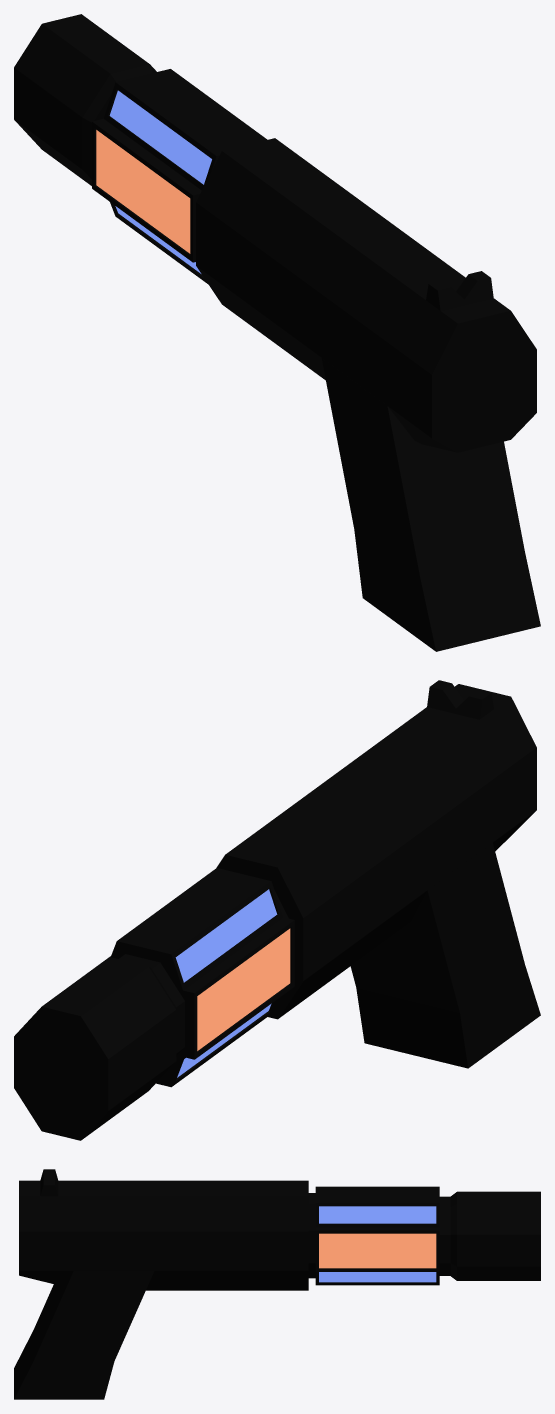
The model's file is gun1.gltf.
3 views of the same model, one above another, from view 1: azimuth 30°, elevation 25°; view 2: azimuth 150°, elevation 25°; view 3: azimuth 270°, elevation 25° (orthographic). The views are drawn at different scales.
Visible parts, largest first — view 1: Cylinder; view 2: Cylinder; view 3: Cylinder.
Boxes of the visible parts, left/top/right/bottom form: Cylinder: left=14, top=14, right=540, bottom=651; Cylinder: left=14, top=680, right=540, bottom=1140; Cylinder: left=14, top=1169, right=540, bottom=1399.
Size of the model in its own units: 0.1799 by 0.5519 by 1.27.
